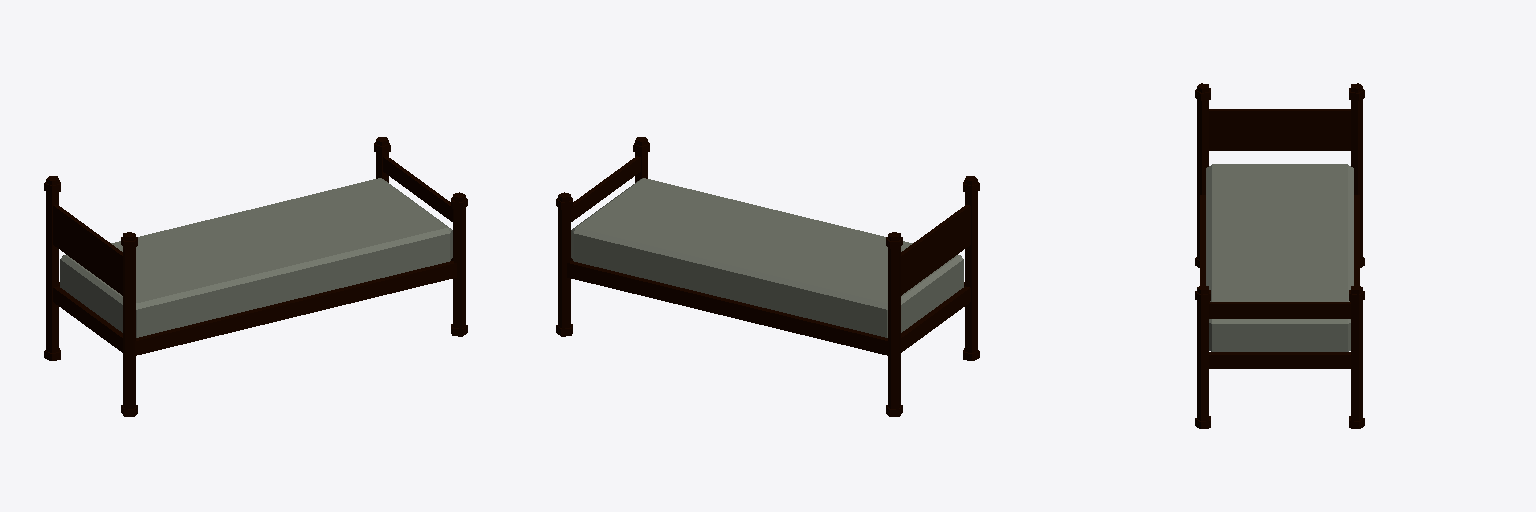
The model's file is bed.obj.
3 views of the same model, side by side, from view 1: azimuth 30°, elevation 25°; view 2: azimuth 150°, elevation 25°; view 3: azimuth 270°, elevation 25° (orthographic).
Visible parts, largest first — view 1: cox_o, cama02; view 2: cox_o, cama02; view 3: cox_o, cama02.
Boxes of the visible parts, box(x1,y1,x2,y2) form: cox_o: box(60, 178, 452, 337); cama02: box(44, 137, 467, 416); cox_o: box(571, 178, 963, 337); cama02: box(556, 137, 979, 416); cox_o: box(1206, 164, 1353, 351); cama02: box(1195, 83, 1364, 428).
Bounding box in the file's own units: 6.36 × 3.17 × 2.74.